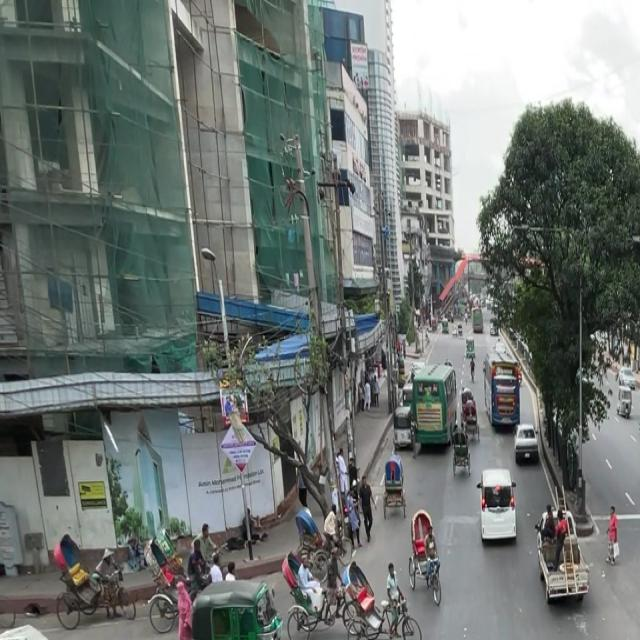car: (467, 461, 529, 557), (510, 417, 545, 467)
rickshaw: (183, 576, 296, 640), (638, 434, 640, 494)
van: (532, 514, 598, 615)
